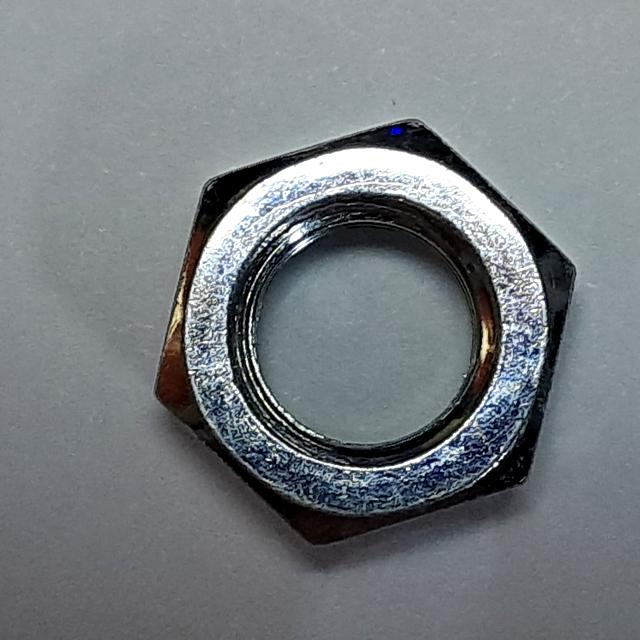Excellent: (138, 107, 586, 558)
